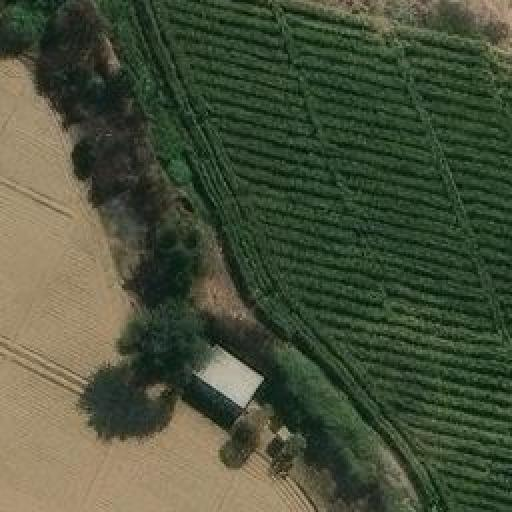manzanas: (184, 339, 308, 464)
